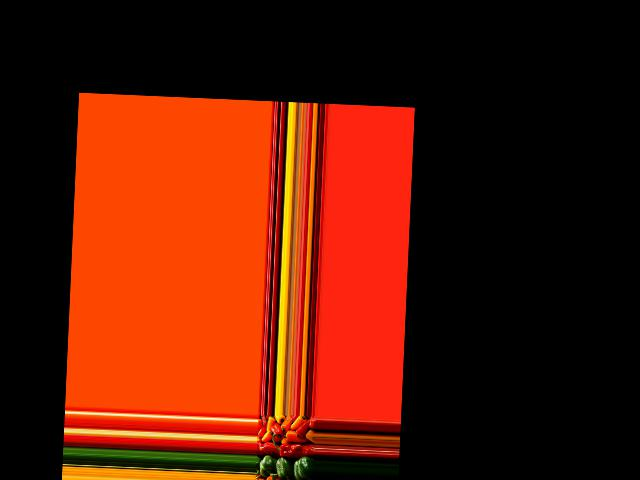bell_pepper: (295, 418, 311, 438)
